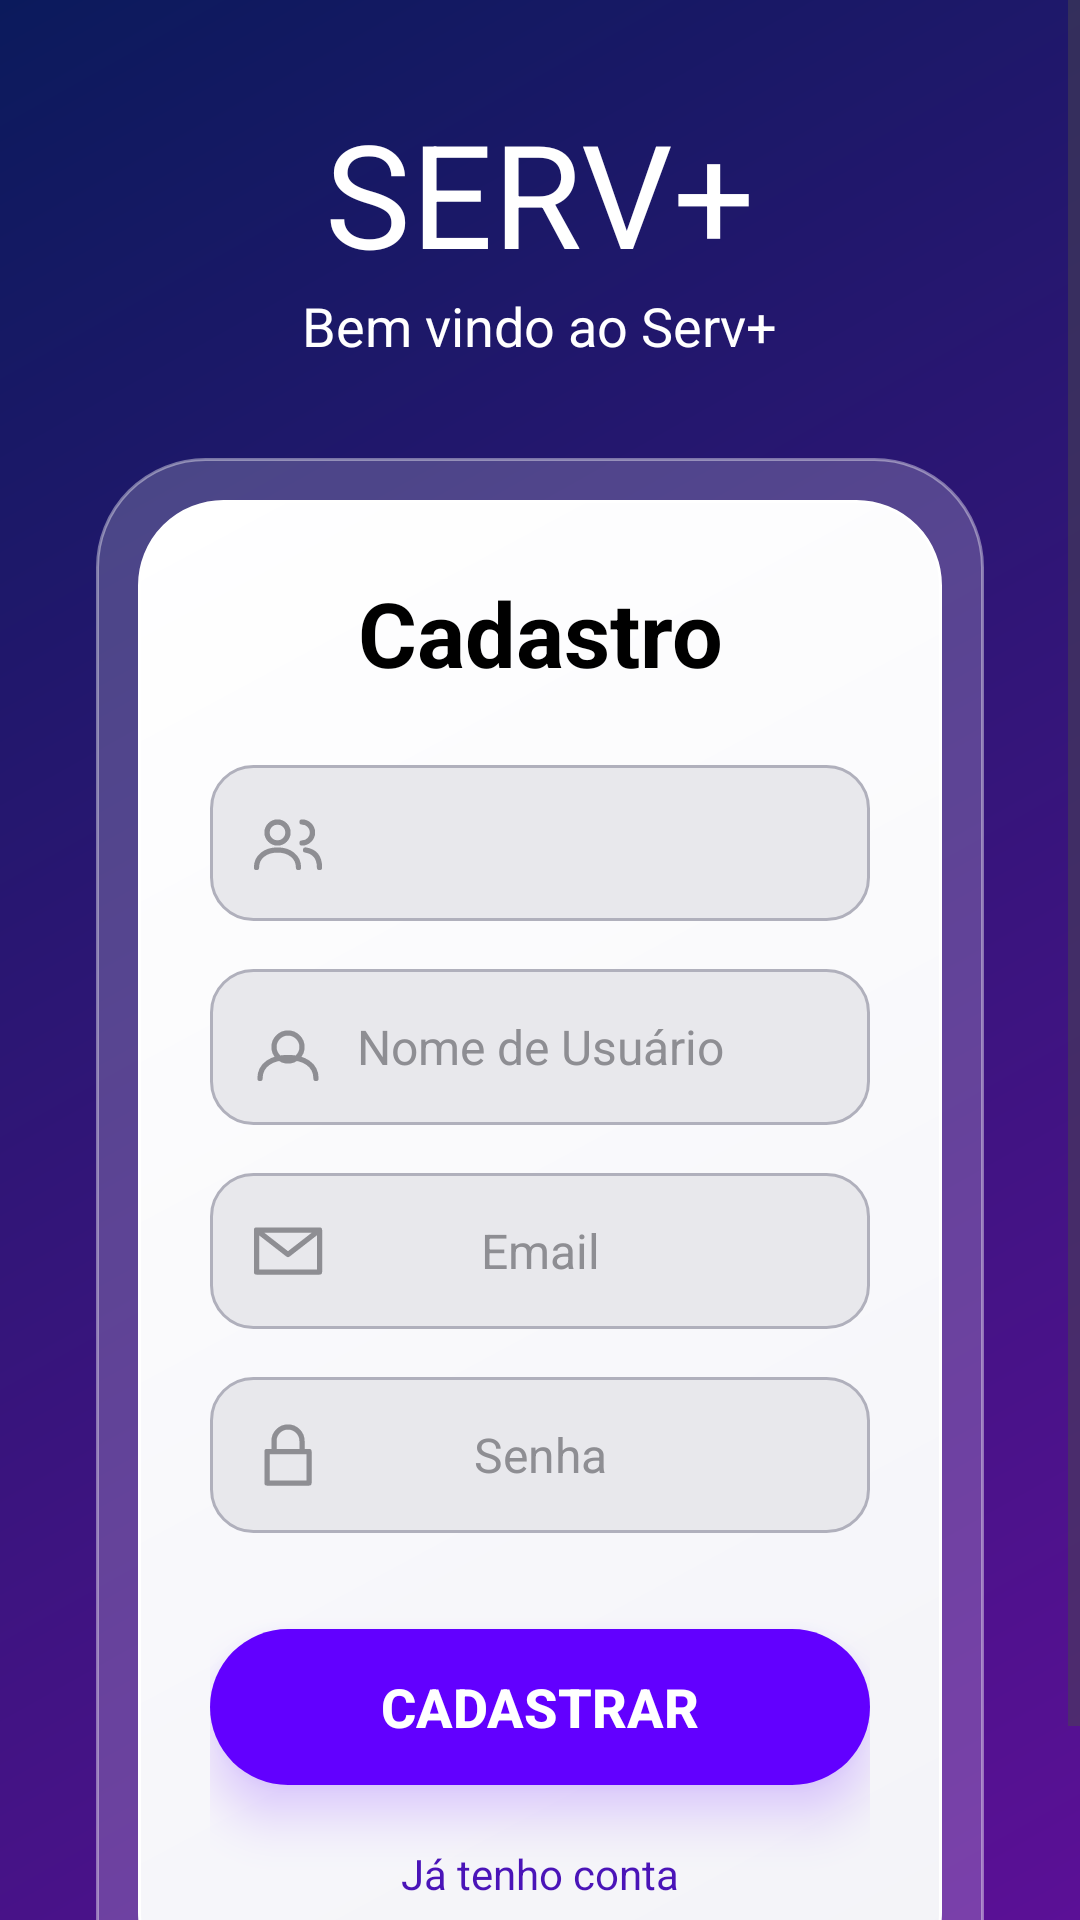

Icons on this 1080*1920 Android screen, each with the point to tap as (x,y):
Tipo da conta: (288,844)
